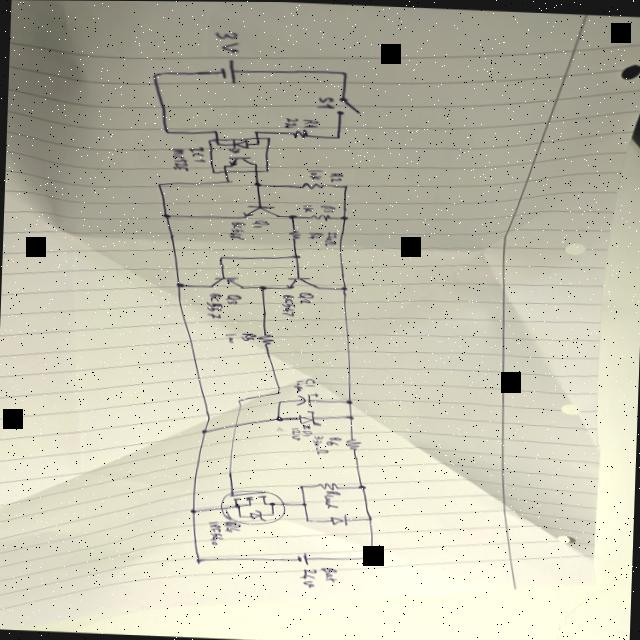capacitor: (298, 390, 320, 405)
crossover: (233, 421, 240, 426)
diode: (298, 408, 320, 423), (329, 511, 348, 525), (248, 507, 268, 520)
junction: (258, 282, 270, 289), (274, 413, 286, 420), (150, 70, 163, 76), (174, 280, 186, 286), (340, 283, 350, 290), (292, 252, 302, 258), (344, 397, 354, 403), (162, 211, 172, 217), (189, 506, 199, 512), (340, 68, 350, 74), (217, 253, 227, 259), (200, 426, 210, 432), (163, 127, 173, 133), (340, 214, 350, 219), (358, 483, 368, 488), (347, 413, 356, 418), (254, 180, 263, 185), (300, 500, 309, 505), (194, 557, 203, 562), (275, 388, 284, 393), (342, 182, 350, 187), (369, 553, 377, 558), (298, 482, 306, 487), (367, 514, 375, 519), (236, 397, 245, 401), (288, 213, 297, 217), (225, 177, 233, 181), (334, 133, 342, 137), (304, 516, 312, 520), (212, 128, 220, 132), (276, 398, 284, 402), (268, 500, 276, 504), (253, 128, 260, 132), (156, 181, 163, 185), (270, 511, 276, 515), (238, 513, 244, 517), (235, 502, 241, 506)
resistor: (289, 127, 313, 138), (344, 435, 364, 448), (257, 330, 275, 344), (300, 179, 327, 188), (319, 479, 342, 488), (310, 212, 332, 219), (290, 228, 302, 239)
source: (219, 56, 238, 83), (296, 550, 312, 563)
switch: (336, 95, 363, 114)
text: (214, 28, 242, 52), (170, 146, 191, 170), (208, 290, 225, 317), (207, 519, 225, 544), (228, 218, 248, 239), (280, 292, 298, 315), (311, 432, 330, 453), (189, 143, 207, 162), (301, 565, 317, 586), (325, 488, 342, 507), (224, 517, 244, 532), (298, 289, 316, 304), (322, 565, 340, 580), (304, 166, 326, 178), (318, 94, 335, 109), (324, 229, 338, 244), (284, 114, 300, 127), (326, 433, 342, 445), (304, 116, 322, 126), (252, 217, 270, 227), (328, 170, 344, 181), (228, 291, 244, 302), (307, 229, 325, 238), (321, 202, 337, 211), (293, 378, 305, 390), (225, 331, 238, 342), (291, 425, 301, 439), (242, 330, 256, 339), (304, 422, 314, 434), (302, 203, 316, 211), (305, 376, 317, 384)
transistor: (230, 487, 276, 507), (242, 202, 282, 218), (285, 274, 322, 289), (210, 275, 248, 288)
